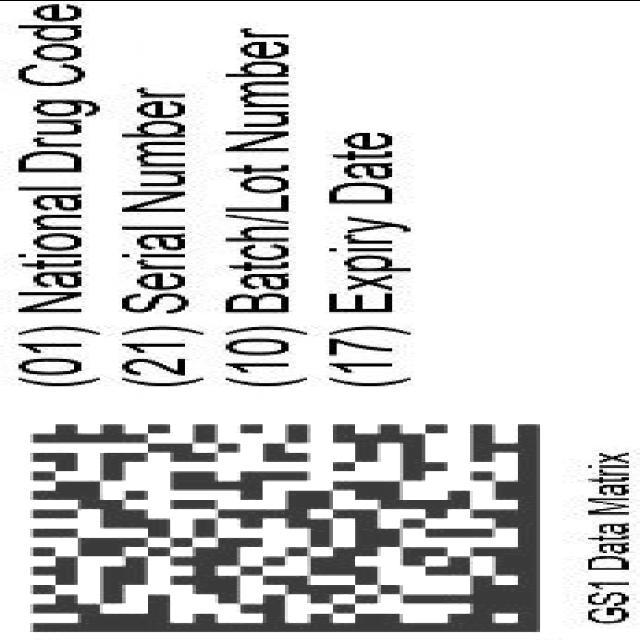Data-Matrix: (8, 411, 562, 637)
